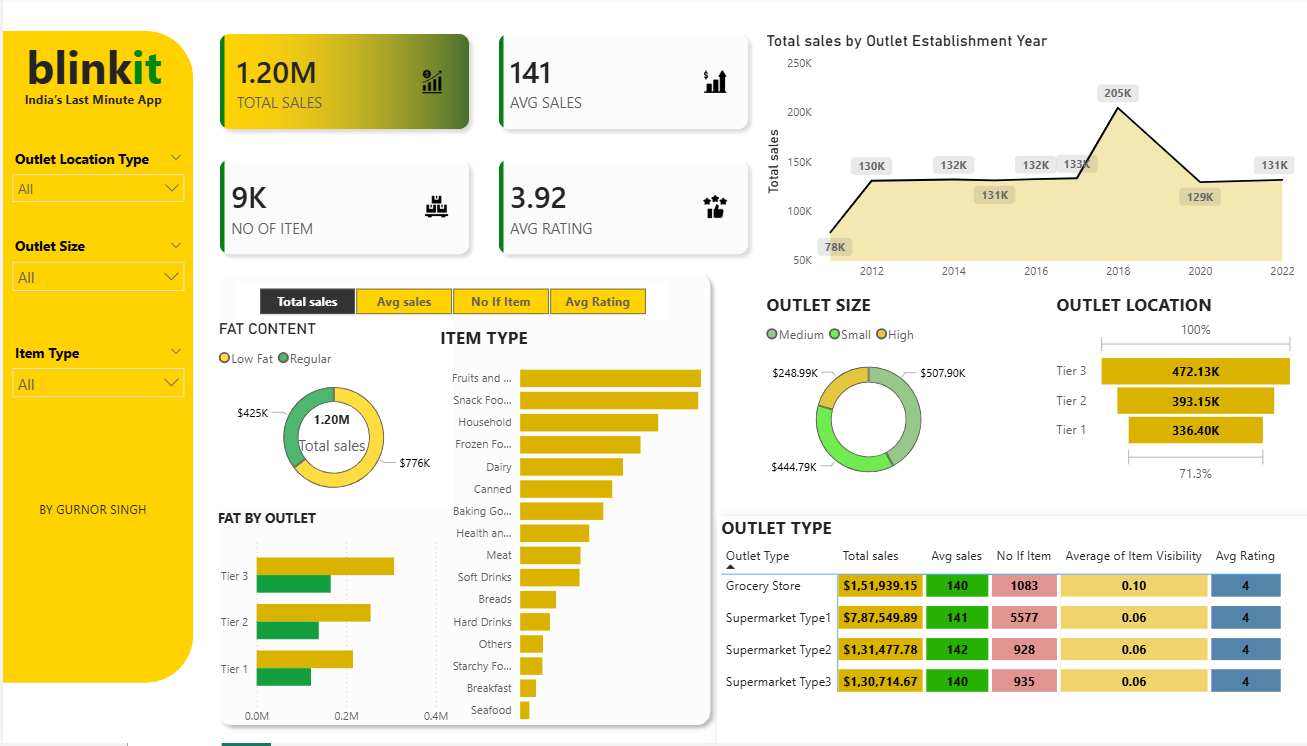

What the dashboard file says about the page in this screenshot:
{"tool":"powerbi","page":{"name":"Page 1","canvas":[1400,800],"ordinal":0},"visuals":[{"type":"shape","box":[0,36,204.1,699.4],"z":0},{"type":"textbox","box":[19.5,36,184.6,87.1],"z":1000},{"type":"cardVisual","fields":{"Data":["BlinkIT Grocery Data.totalsales","BlinkIT Grocery Data.avg sales","BlinkIT Grocery Data.No If Item","BlinkIT Grocery Data.Avg Rating"]},"box":[204.1,10.5,625.9,294.2],"z":2000},{"type":"textbox","box":[0,94.6,193.6,88.6],"z":3000},{"type":"shape","box":[220.6,286.7,546.3,502.8],"z":4000},{"type":"donutChart","title":"FAT CONTENT","fields":{"Y":["BlinkIT Grocery Data.Total sales"],"Category":["BlinkIT Grocery Data.Item Fat Content"]},"box":[226.6,345.2,256.6,202.6],"z":5000},{"type":"slicer","fields":{"Values":["Parameter.Parameter"]},"box":[250,305.4,463.6,41.1],"z":6000},{"type":"card","fields":{"Values":["BlinkIT Grocery Data.Total sales"]},"box":[306.2,426.2,94.6,79.5],"z":7000},{"type":"clusteredBarChart","title":"FAT BY OUTLET","fields":{"Y":["BlinkIT Grocery Data.Total sales"],"Series":["BlinkIT Grocery Data.Item Fat Content"],"Category":["BlinkIT Grocery Data.Outlet Location Type"]},"box":[225.1,547.8,258.1,241.6],"z":8000},{"type":"clusteredBarChart","title":"ITEM TYPE","fields":{"Y":["BlinkIT Grocery Data.Total sales"],"Category":["BlinkIT Grocery Data.Item Type"]},"box":[463.8,352.7,313.7,436.8],"z":9000},{"type":"lineChart","fields":{"Category":["BlinkIT Grocery Data.Outlet Establishment Year"],"Y":["BlinkIT Grocery Data.Total sales"]},"box":[813.5,36,576.3,276.2],"z":10000},{"type":"donutChart","title":"OUTLET SIZE","fields":{"Y":["BlinkIT Grocery Data.Total sales"],"Category":["BlinkIT Grocery Data.Outlet Size"]},"box":[813.5,316.7,229.6,219.1],"z":11000},{"type":"funnel","title":" OUTLET LOCATION","fields":{"Category":["BlinkIT Grocery Data.Outlet Location Type"],"Y":["Sum(BlinkIT Grocery Data.Sales)"]},"box":[1124.1,316.7,265.7,208.6],"z":12000},{"type":"pivotTable","title":"OUTLET TYPE","fields":{"Rows":["BlinkIT Grocery Data.Outlet Type"],"Values":["BlinkIT Grocery Data.Total sales","BlinkIT Grocery Data.Avg sales","BlinkIT Grocery Data.No If Item","Avg(BlinkIT Grocery Data.Item Visibility)","BlinkIT Grocery Data.Avg Rating"]},"box":[765.4,556.3,634.1,244],"z":13000},{"type":"slicer","fields":{"Values":["BlinkIT Grocery Data.Outlet Location Type"]},"box":[0,157.6,204.1,69],"z":14000},{"type":"slicer","fields":{"Values":["BlinkIT Grocery Data.Outlet Size"]},"box":[0,252.1,204.1,69],"z":15000},{"type":"slicer","fields":{"Values":["BlinkIT Grocery Data.Item Type"]},"box":[0,366.2,204.1,100.6],"z":16000},{"type":"textbox","box":[0,534.9,193,91.2],"z":17000}]}

Visuals, with their boxes in screenshot pixels (x1, y1, x2, y2), scaled from the page's 1400x800 canvas onto the 1307x746 screenshot:
shape: detection(0, 34, 191, 686)
textbox: detection(18, 34, 191, 115)
cardVisual - BlinkIT Grocery Data.totalsales x BlinkIT Grocery Data.avg sales: detection(191, 10, 775, 284)
textbox: detection(0, 88, 181, 171)
shape: detection(206, 267, 716, 736)
"FAT CONTENT" donutChart: detection(212, 322, 451, 511)
slicer - Parameter.Parameter: detection(233, 285, 666, 323)
card - BlinkIT Grocery Data.Total sales: detection(286, 397, 374, 472)
"FAT BY OUTLET" clusteredBarChart: detection(210, 511, 451, 736)
"ITEM TYPE" clusteredBarChart: detection(433, 329, 726, 736)
lineChart - BlinkIT Grocery Data.Outlet Establishment Year x BlinkIT Grocery Data.Total sales: detection(759, 34, 1297, 291)
"OUTLET SIZE" donutChart: detection(759, 295, 974, 500)
" OUTLET LOCATION" funnel: detection(1049, 295, 1297, 490)
"OUTLET TYPE" pivotTable: detection(715, 519, 1306, 745)
slicer - BlinkIT Grocery Data.Outlet Location Type: detection(0, 147, 191, 211)
slicer - BlinkIT Grocery Data.Outlet Size: detection(0, 235, 191, 299)
slicer - BlinkIT Grocery Data.Item Type: detection(0, 341, 191, 435)
textbox: detection(0, 499, 180, 584)
